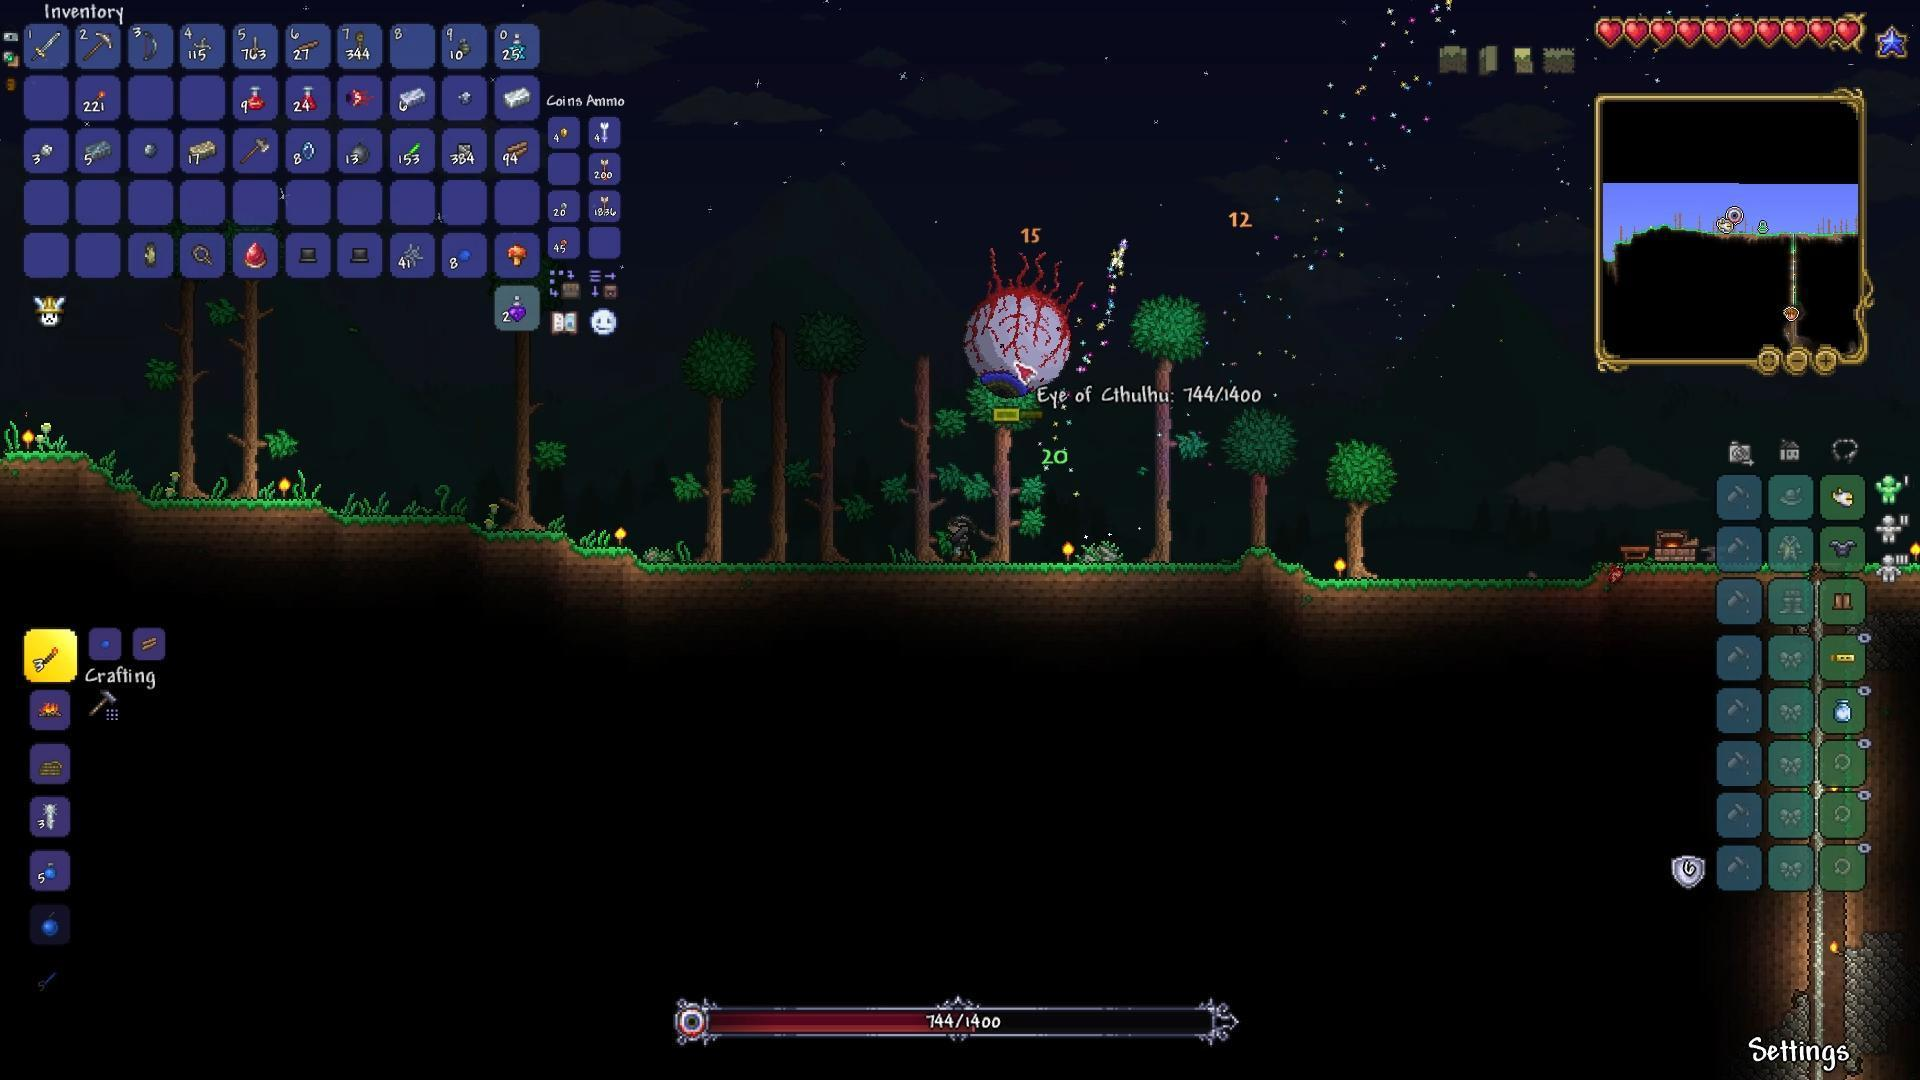eyeC: (965, 244, 1091, 400)
